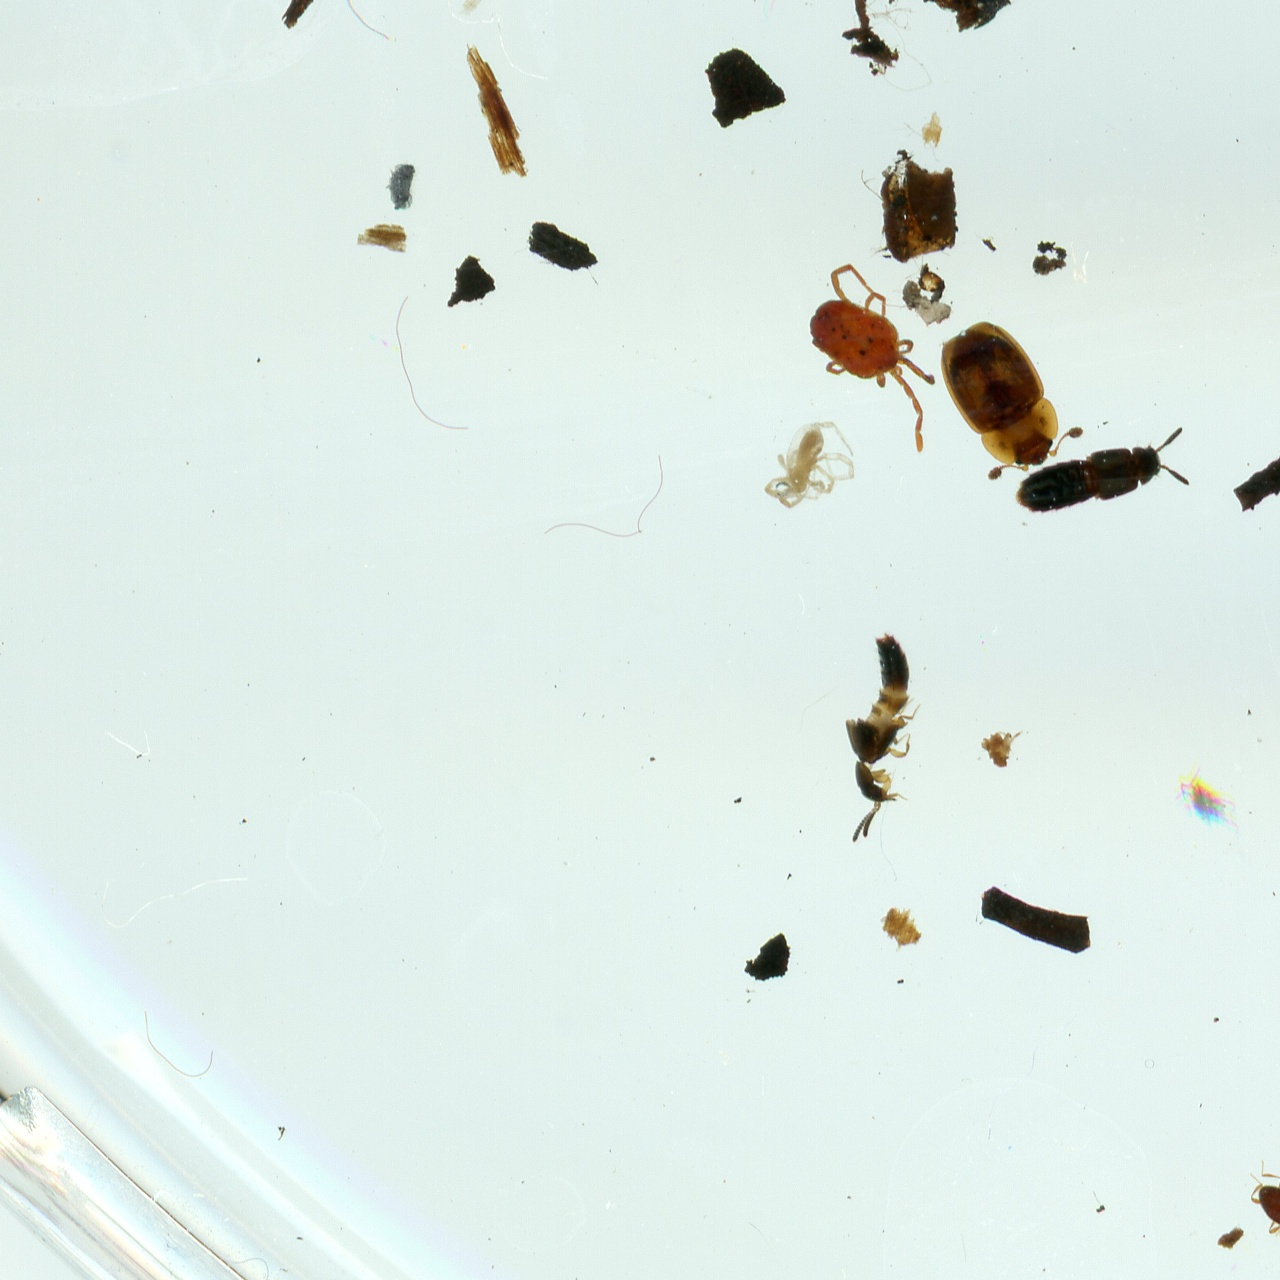arthropod: (771, 251, 989, 458), (918, 295, 1091, 492), (1000, 424, 1198, 533), (842, 628, 924, 847), (763, 418, 858, 512), (1228, 1145, 1280, 1280), (383, 161, 416, 211)
